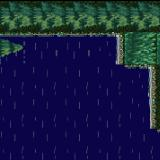Interaction: (0, 29, 109, 48), (143, 60, 160, 137), (108, 29, 128, 62), (109, 60, 142, 78)
Obstacle: (0, 0, 160, 31)
Slow: (125, 31, 160, 63)
